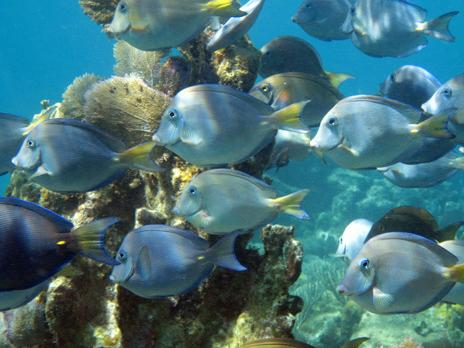Acanthuridae -Surgeonfishes-: (151, 79, 317, 164), (6, 114, 166, 192), (328, 228, 464, 317), (102, 219, 249, 299), (308, 94, 460, 171), (169, 168, 306, 234), (102, 0, 238, 58), (340, 0, 459, 60), (409, 63, 464, 150)
